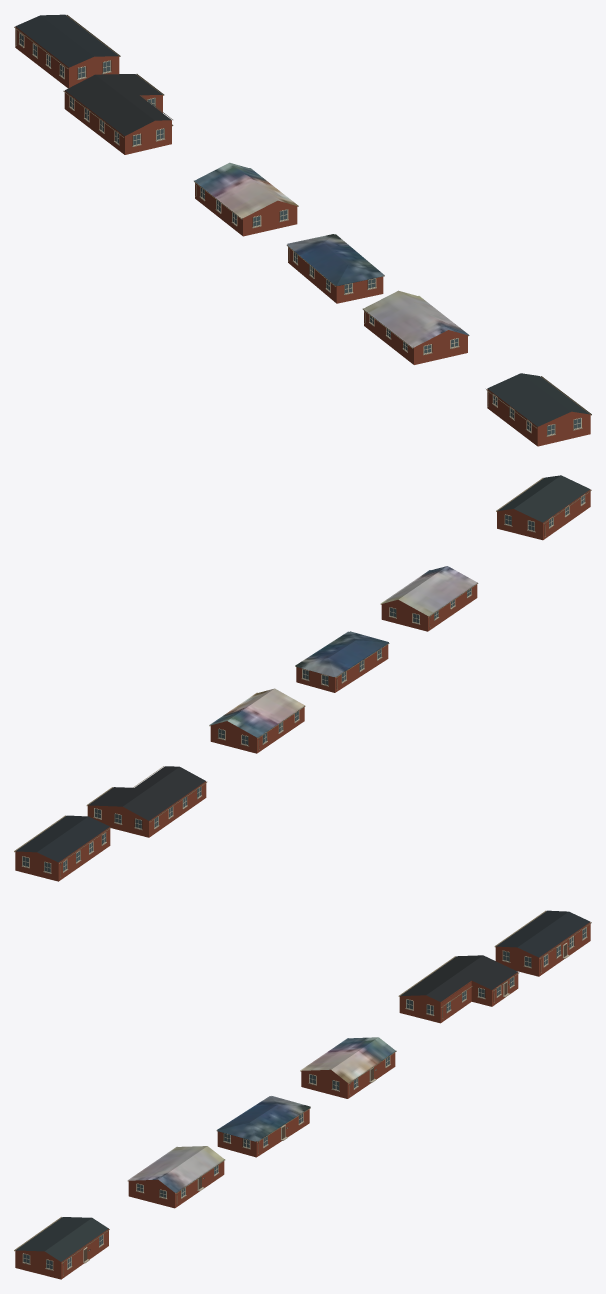
3 renders of one model, top to bottom at view 1: azimuth 30°, elevation 25°; view 2: azimuth 150°, elevation 25°; view 3: azimuth 330°, elevation 25°, orthographic. The views are drawn at different scales.
Visible parts, largest first — view 1: 0_14_638294550_0, 0_14_638294552_2; view 2: 0_14_638294550_0, 0_14_638294552_2; view 3: 0_14_638294550_0, 0_14_638294552_2.
Part boxes in pixels (x1=…): 0_14_638294550_0: x1=14, y1=14, x2=591, y2=446; 0_14_638294552_2: x1=194, y1=162, x2=468, y2=347; 0_14_638294550_0: x1=14, y1=475, x2=591, y2=881; 0_14_638294552_2: x1=209, y1=566, x2=477, y2=737; 0_14_638294550_0: x1=14, y1=910, x2=591, y2=1279; 0_14_638294552_2: x1=128, y1=1037, x2=396, y2=1192.
Size of the model in its own units: 15.77 by 7.91 by 169.
Materials: 11 (1 with a texture image).
